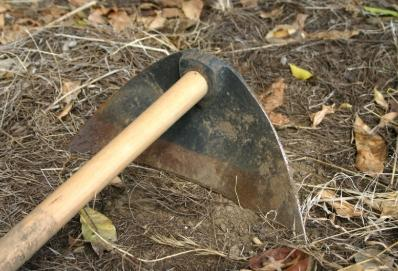HOUE: (0, 47, 316, 271)
